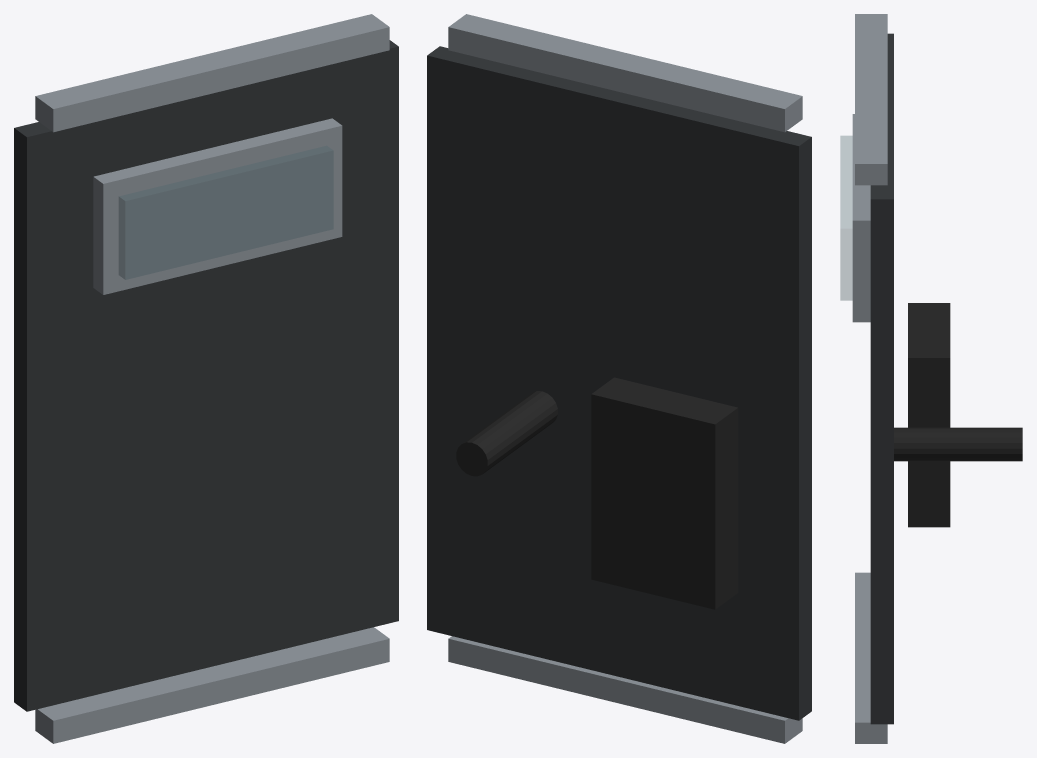
File: riot_shield.glb
3 renders of one model, left to right at view 1: azimuth 30°, elevation 25°; view 2: azimuth 150°, elevation 25°; view 3: azimuth 270°, elevation 25°, orthographic. The views are drawn at different scales.
Visible parts, largest first — view 1: Shield, WindowFrame, Window, TopRail, BottomRail; view 2: Shield, ForearmPad, TopRail, BottomRail, Handle; view 3: Shield, ForearmPad, TopRail, Handle, BottomRail, WindowFrame, Window.
Boxes of the visible parts, x1=… form: Shield: x1=14, y1=40, x2=398, y2=711; WindowFrame: x1=93, y1=118, x2=342, y2=294; Window: x1=119, y1=146, x2=333, y2=279; TopRail: x1=35, y1=14, x2=389, y2=132; BottomRail: x1=35, y1=627, x2=389, y2=743; Shield: x1=427, y1=46, x2=811, y2=720; ForearmPad: x1=591, y1=377, x2=738, y2=609; TopRail: x1=448, y1=14, x2=802, y2=132; BottomRail: x1=448, y1=636, x2=802, y2=743; Handle: x1=456, y1=391, x2=557, y2=476; Shield: x1=870, y1=33, x2=893, y2=724; ForearmPad: x1=908, y1=303, x2=950, y2=527; TopRail: x1=855, y1=14, x2=887, y2=185; Handle: x1=894, y1=427, x2=1022, y2=461; BottomRail: x1=855, y1=572, x2=887, y2=743; WindowFrame: x1=852, y1=114, x2=870, y2=322; Window: x1=840, y1=136, x2=852, y2=300.
Bounding box in the file's own units: 0.42 × 0.685 × 0.195.
